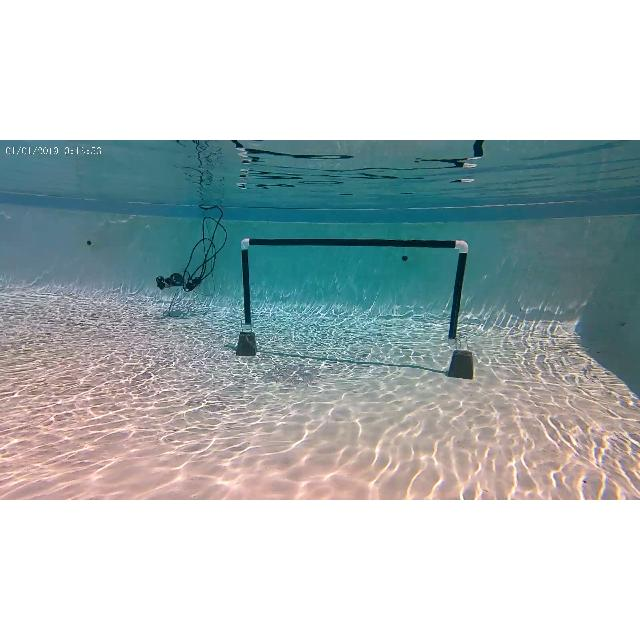prequal gate: (240, 237, 468, 346)
prequal gate leg l: (235, 234, 259, 336)
prequal gate leg r: (448, 235, 466, 348)
